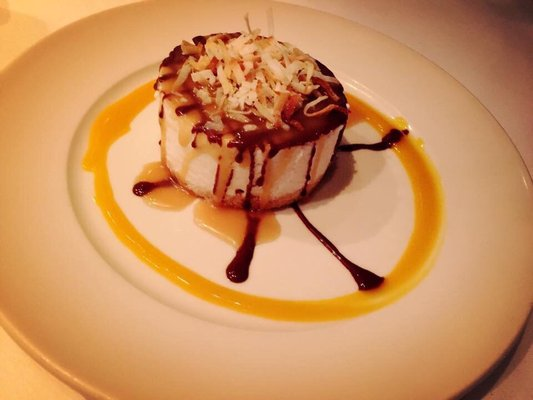curry: (5, 2, 532, 400)
